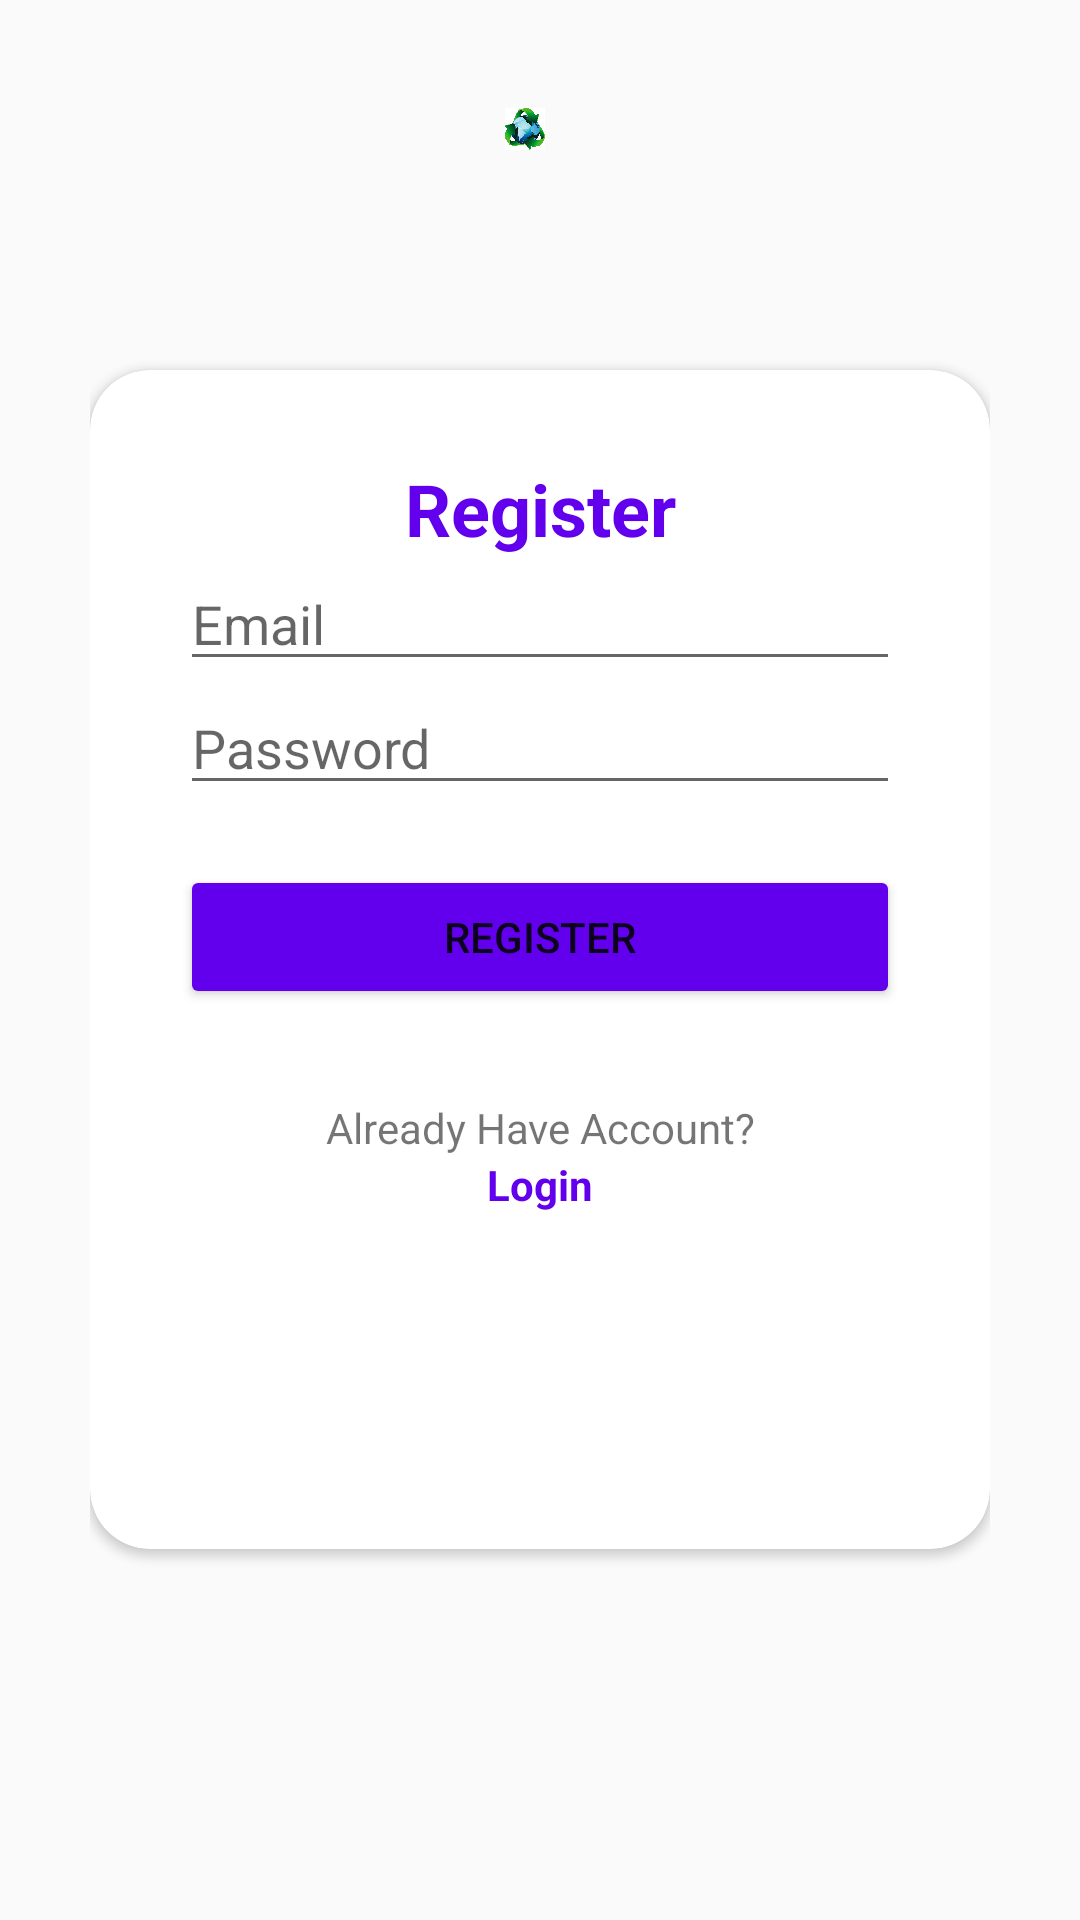

Icon bounding boxes for this 1080×1920 phone screenshot, format (x1, y1, x2, y2):
recycle: (505, 108, 545, 150)
